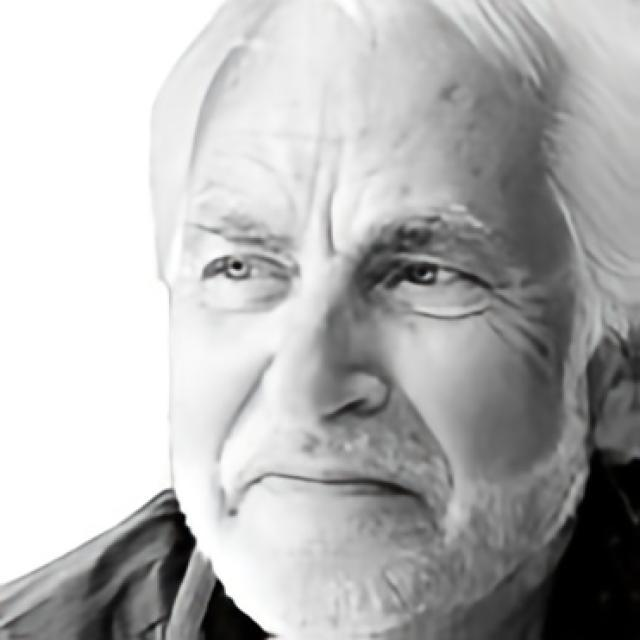disgust: (166, 3, 590, 640)
